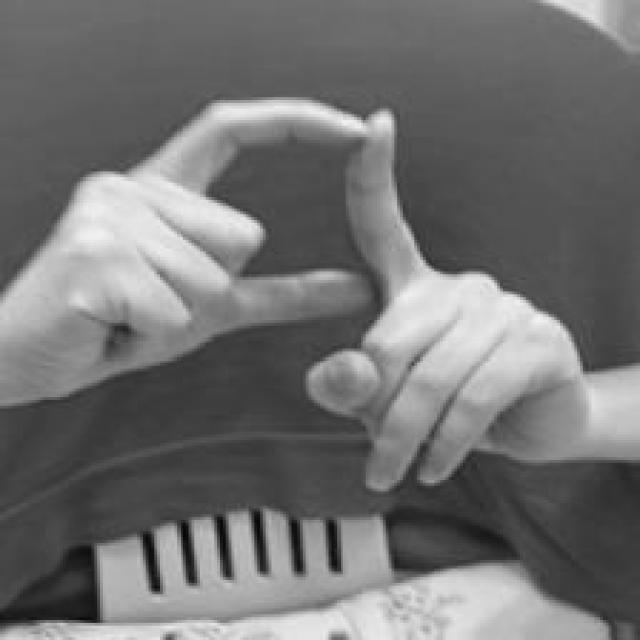D: (5, 93, 588, 505)
